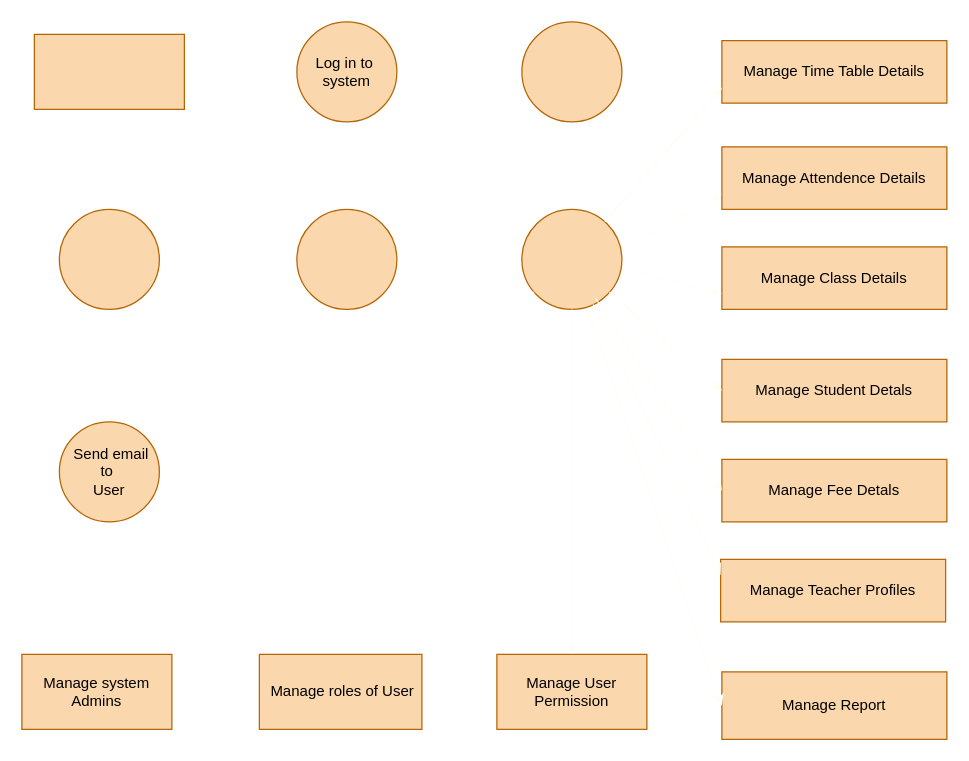
Some shapes in this 969 by 761 pixel diagram are drawn without their labels. Each missing label, with the centre of its shape:
Admin: the point at 108,71
Check Credentials: the point at 346,258
Check Roles of Access: the point at 571,71
Forgot Password: the point at 108,258
Manage Modules: the point at 571,258
